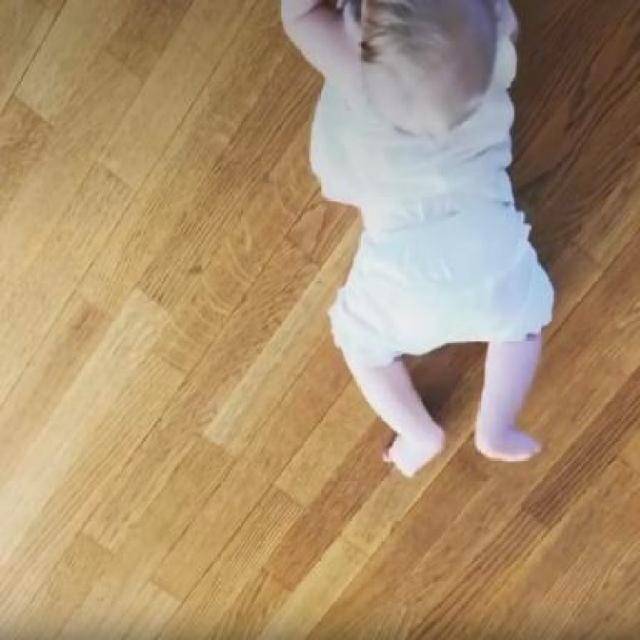child: (278, 2, 554, 482)
